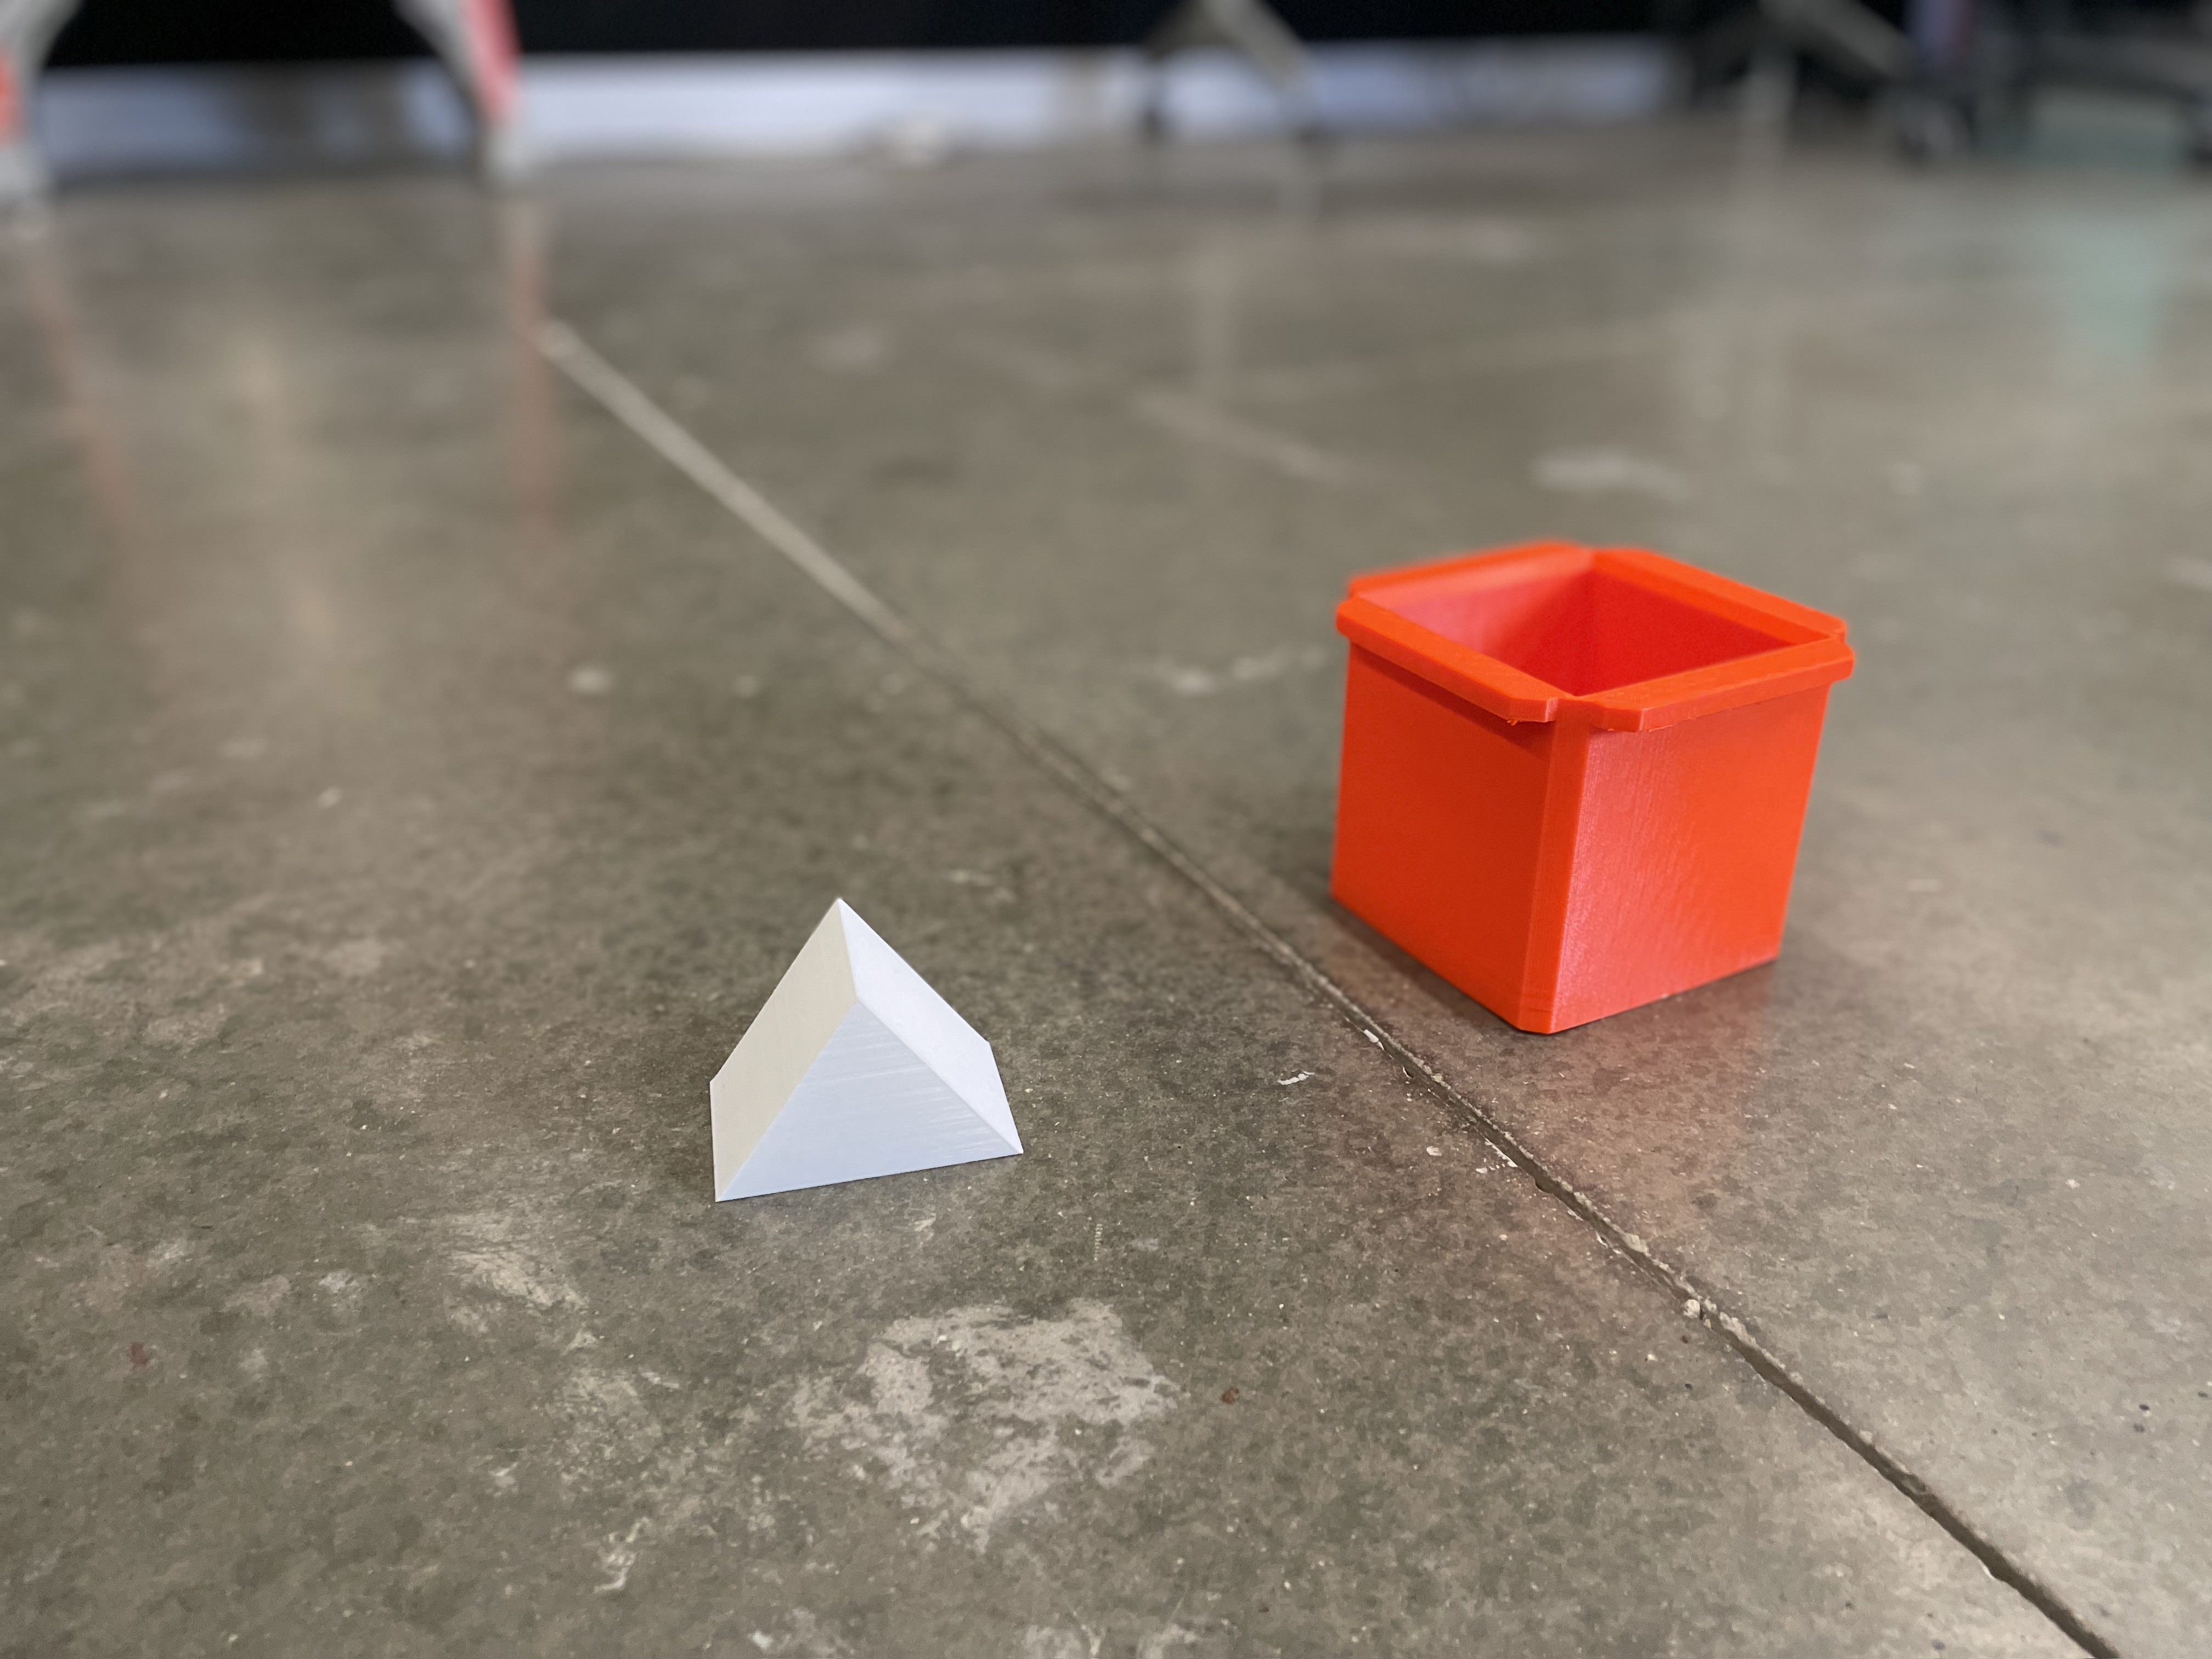payload1: (1294, 523, 1881, 1042)
payload2: (683, 880, 1057, 1236)
